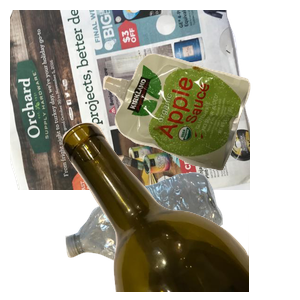glass: (60, 120, 300, 300)
paper: (10, 10, 250, 190)
plastic: (63, 170, 278, 300)
trash: (100, 51, 300, 214)
